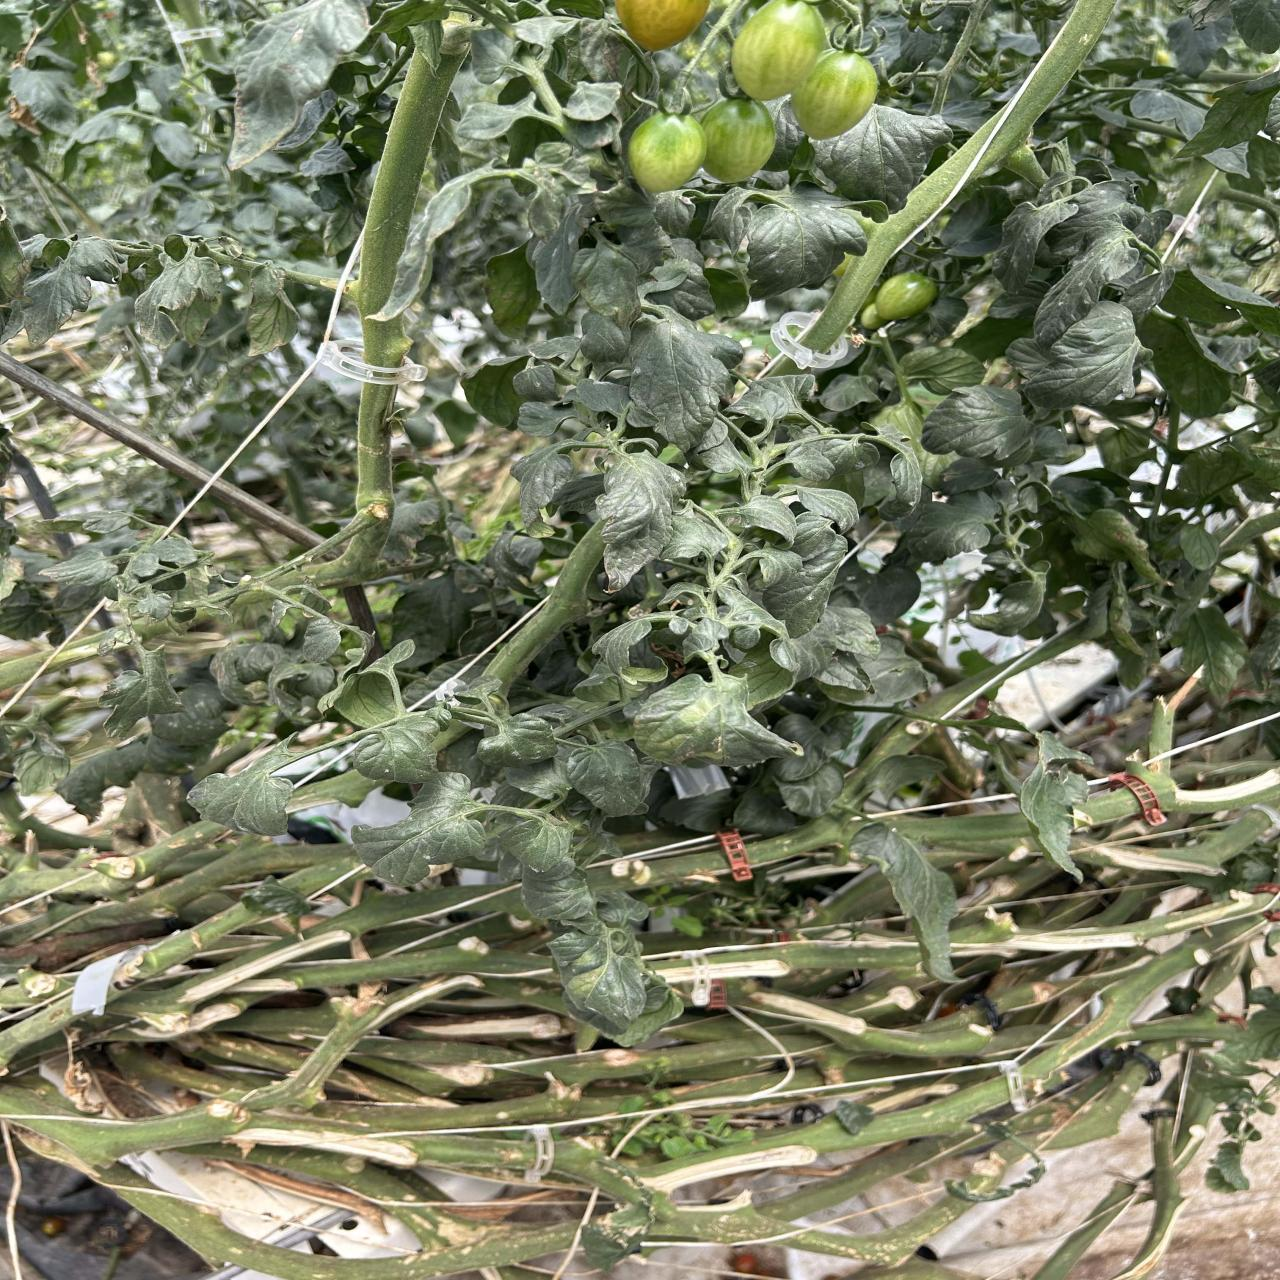Rugose leaf: (381, 169, 508, 318), (633, 674, 798, 765), (549, 919, 668, 1035), (576, 243, 641, 325)
Rugose tomato: (626, 113, 707, 193)
